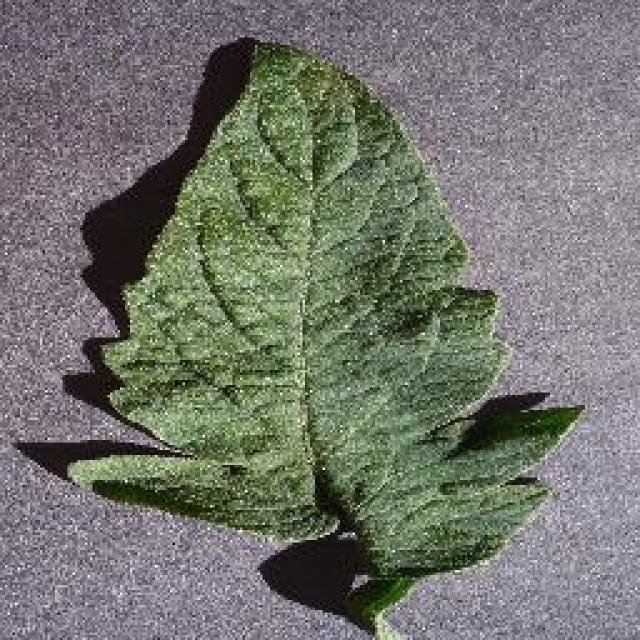Tomato healthy leaf: (66, 41, 574, 624)
